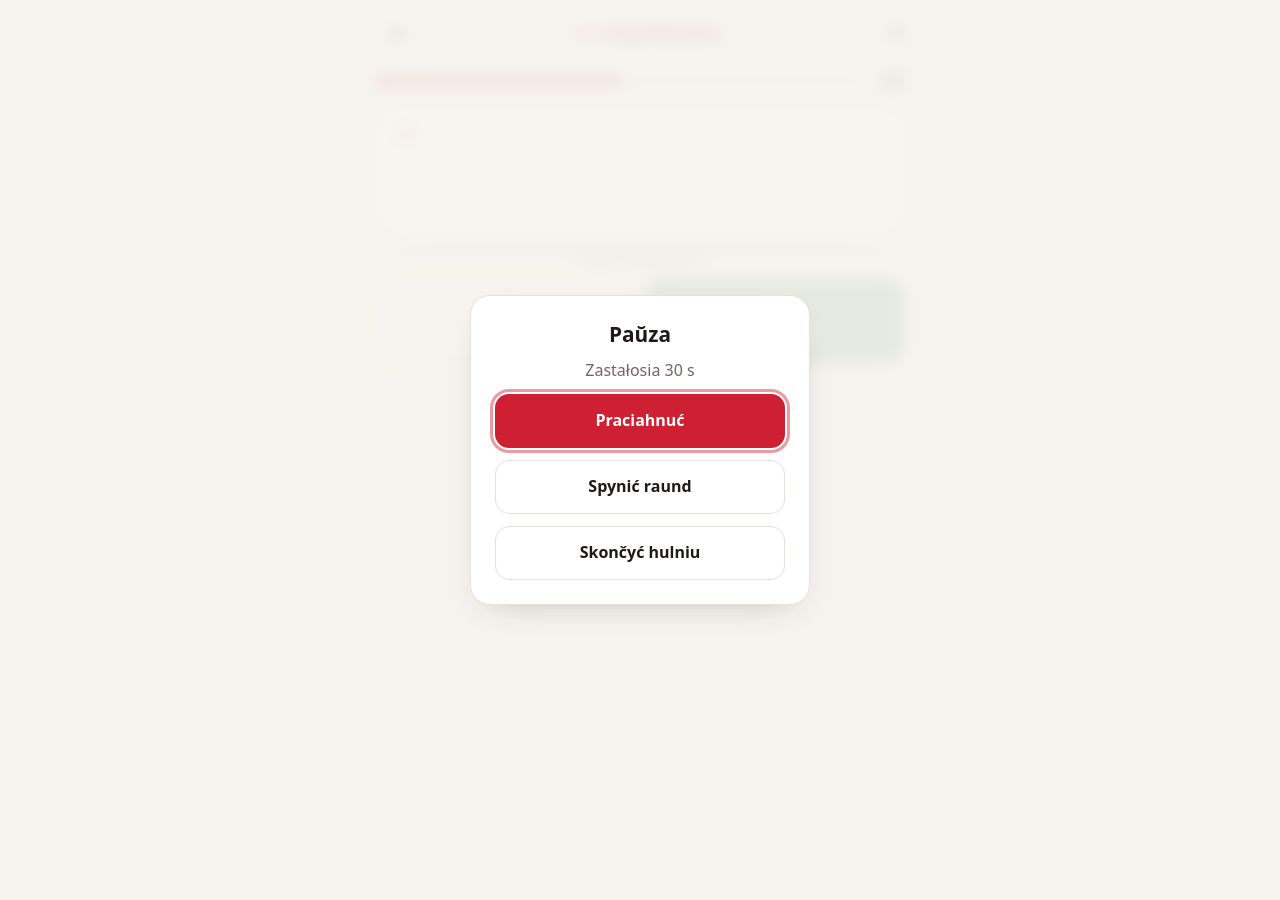
Scenario: PlayScreen › скончыць гульню з паўзы › у лацінцы
Click the button "Skončyć hulniu".
click(640, 553)  # box [495,526,785,580]
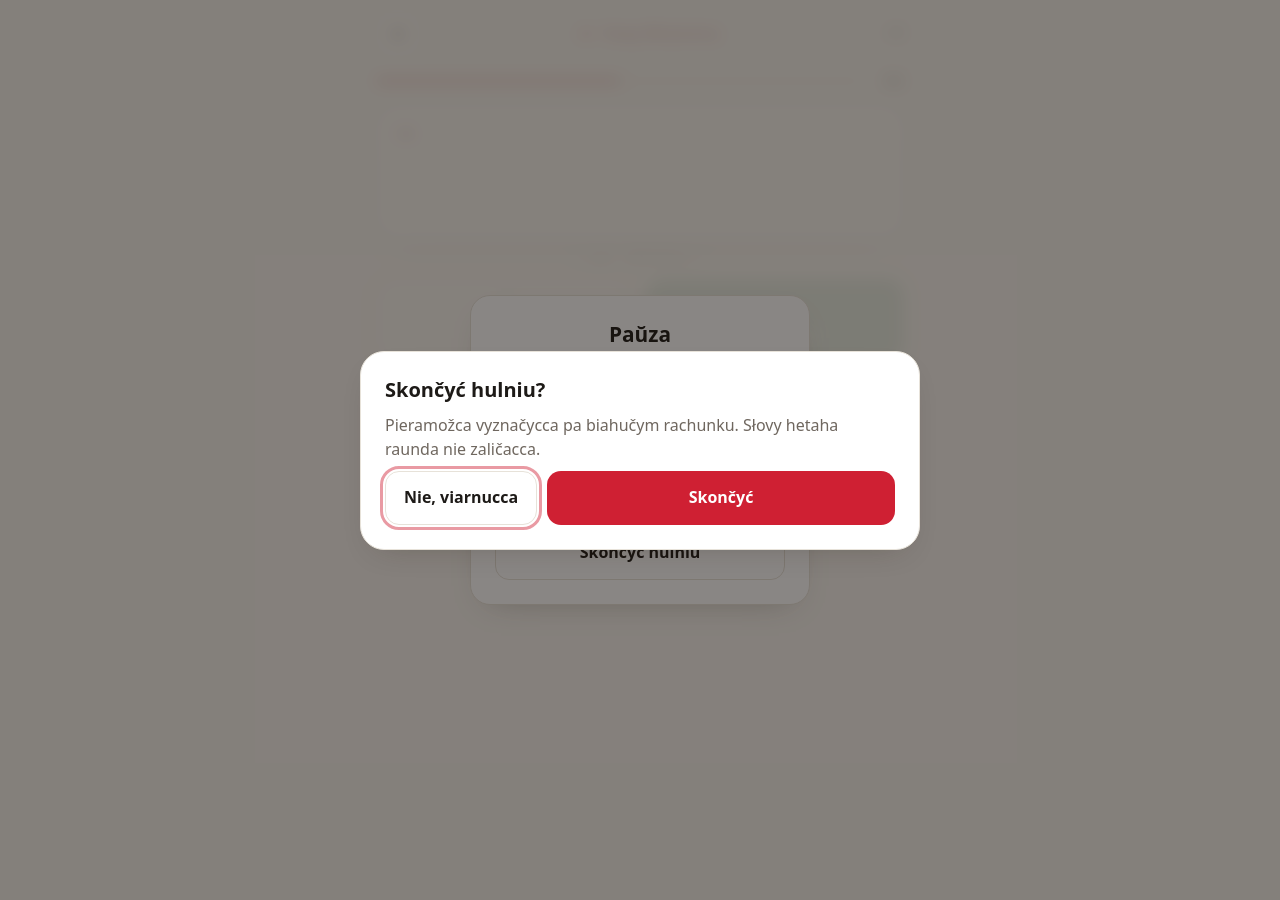
Result: the dialog "Skončyć hulniu?" is shown
Result: the button "Skončyć" is shown at [547,470,895,524]
